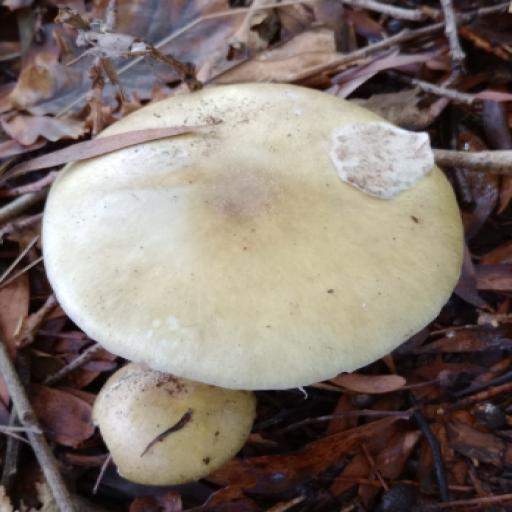mushroom: (19, 53, 480, 425), (88, 365, 255, 497)
